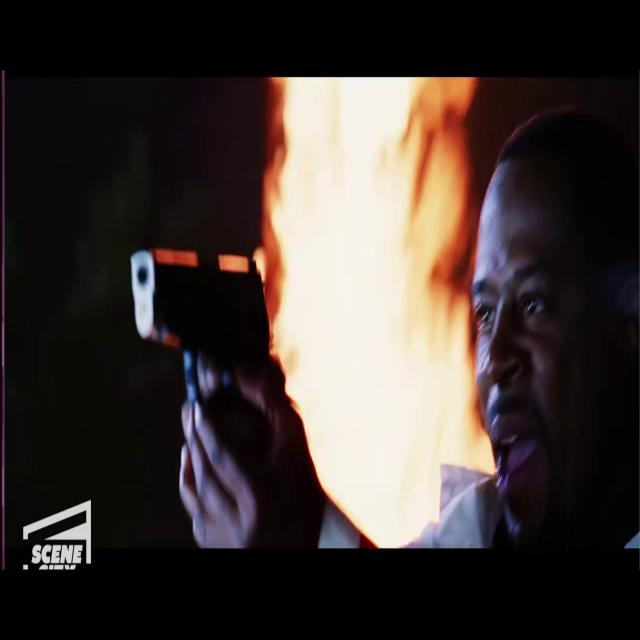weapons: (120, 232, 280, 464)
